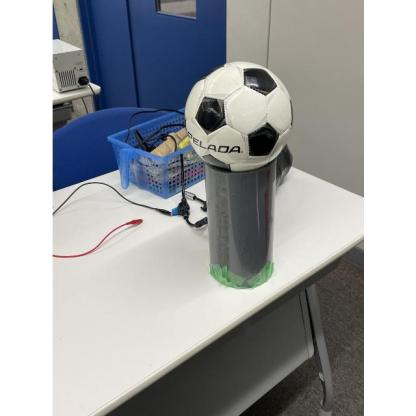ball: (184, 61, 294, 172)
